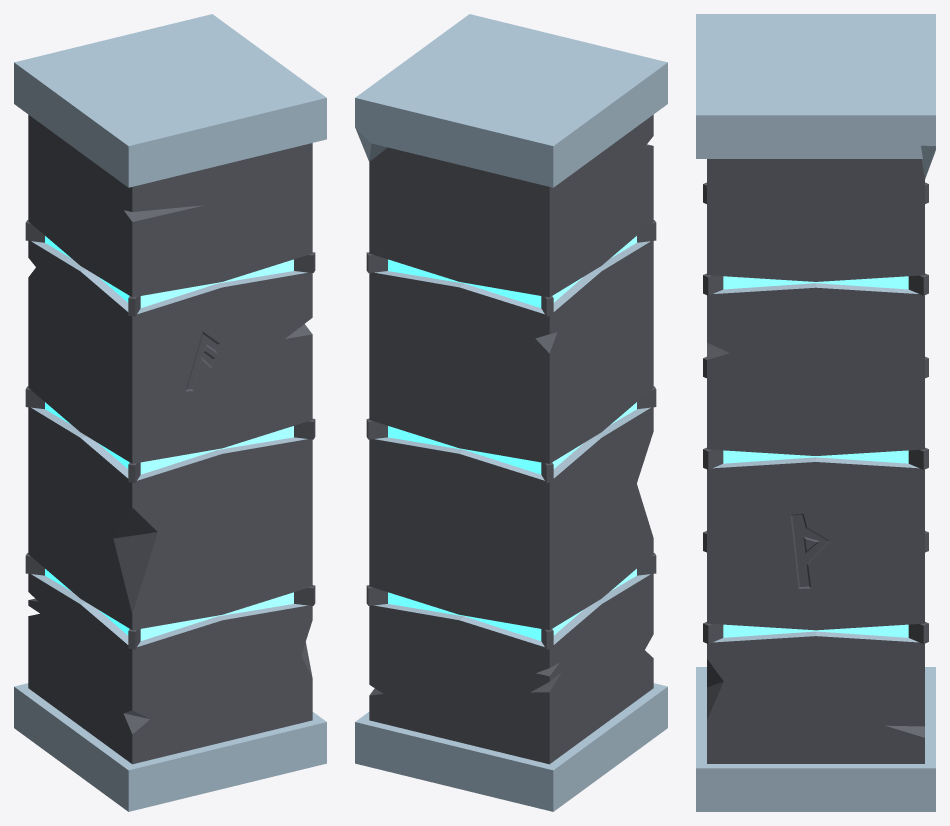
Rendered from Pillar_Large.fbx.
3 renders of one model, left to right at view 1: azimuth 30°, elevation 25°; view 2: azimuth 150°, elevation 25°; view 3: azimuth 270°, elevation 25°, orthographic. The views are drawn at different scales.
Parts seen in each view (by area): view 1: Pillar_Large; view 2: Pillar_Large; view 3: Pillar_Large.
Part boxes in pixels (x1,y1,x2,y2): Pillar_Large: (14,14,326,811); Pillar_Large: (355,14,667,811); Pillar_Large: (696,14,935,811).
Size of the model in its own units: 4.99 by 16 by 4.99.
